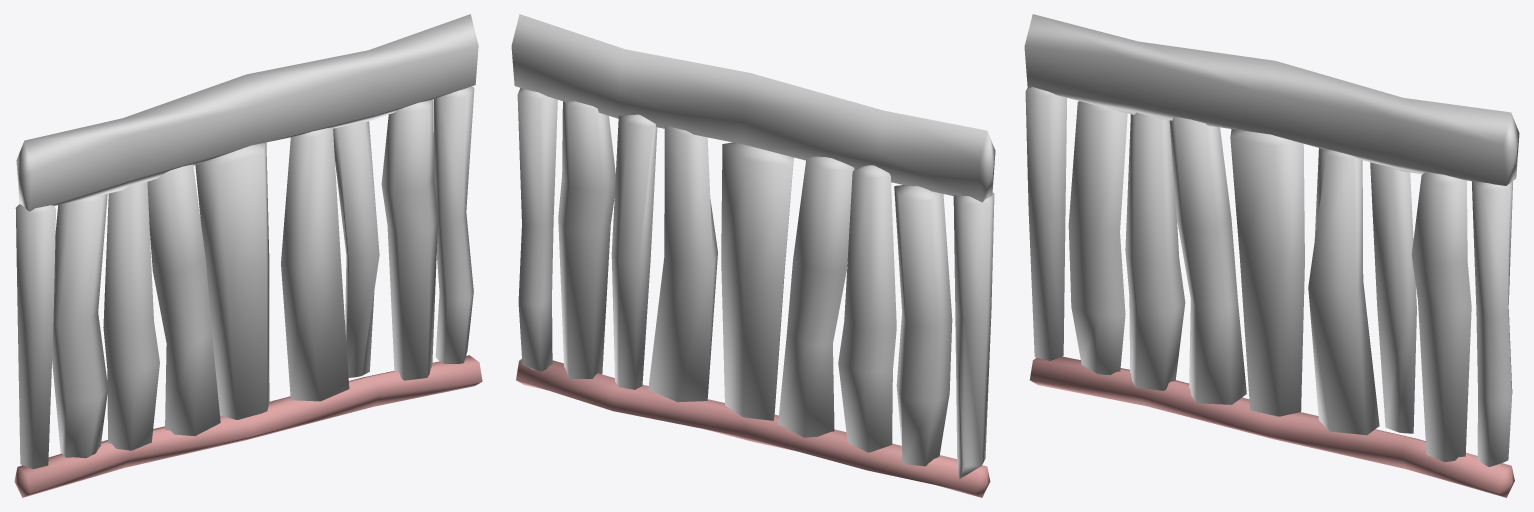
The model's file is PBW_W1_HalfWallHalf.glb.
3 views of the same model, side by side, from view 1: azimuth 30°, elevation 25°; view 2: azimuth 150°, elevation 25°; view 3: azimuth 330°, elevation 25° (orthographic). The views are drawn at different scales.
Visible parts, largest first — view 1: PBW_W1_HalfWallHalf; view 2: PBW_W1_HalfWallHalf; view 3: PBW_W1_HalfWallHalf.
Part boxes in pixels (x1=…): PBW_W1_HalfWallHalf: x1=14, y1=14, x2=482, y2=497; PBW_W1_HalfWallHalf: x1=511, y1=14, x2=995, y2=497; PBW_W1_HalfWallHalf: x1=1024, y1=14, x2=1519, y2=497.
Bounding box in the file's own units: 2.61 × 1.99 × 0.2621.
